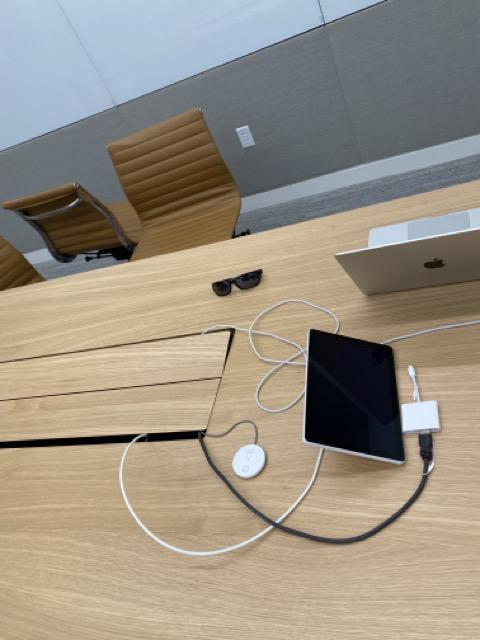Sunglasses: (210, 269, 264, 298)
